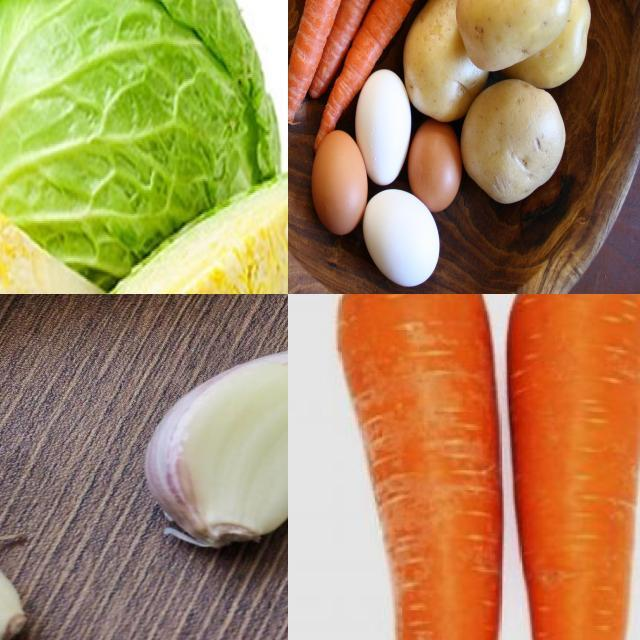cabbage: (1, 1, 282, 295), (14, 162, 289, 295), (1, 139, 111, 295)
carrot: (334, 295, 505, 640), (512, 295, 640, 640)
egg: (364, 191, 446, 289), (310, 125, 364, 231), (358, 74, 409, 180), (415, 127, 457, 203)
garlic: (154, 345, 289, 557)
potato: (466, 92, 558, 194), (460, 1, 582, 65)
